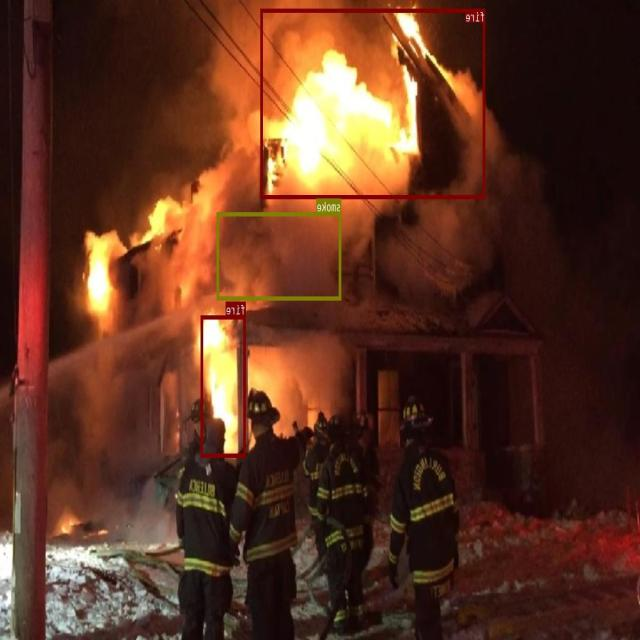fire: (261, 8, 486, 198), (202, 315, 246, 456)
smoke: (217, 212, 342, 299)
